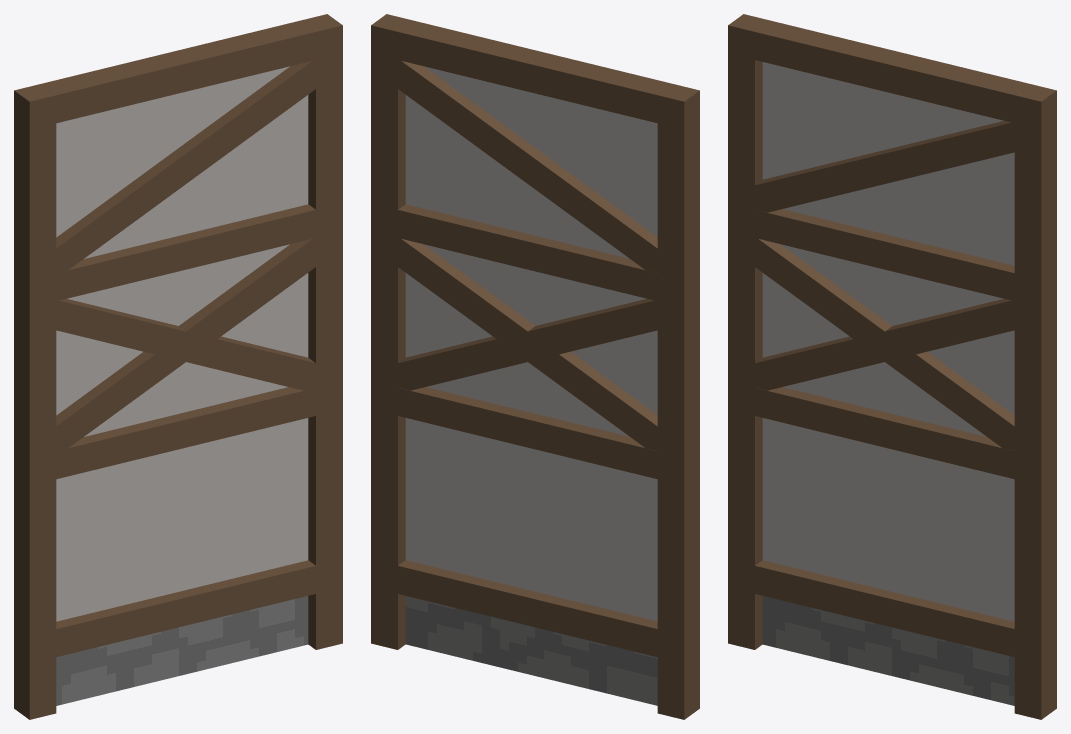
Rendered from wall_1.gltf.
The picture shows the model from 3 angles, left to right: view 1: azimuth 30°, elevation 25°; view 2: azimuth 150°, elevation 25°; view 3: azimuth 330°, elevation 25°; orthographic projection.
Visible parts, largest first — view 1: cube (×26); view 2: cube (×26); view 3: cube (×26).
Part boxes in pixels (x1=…): cube (×26): x1=14, y1=14, x2=342, y2=719; cube (×26): x1=371, y1=14, x2=699, y2=719; cube (×26): x1=728, y1=14, x2=1056, y2=719.
Bounding box in the file's own units: 2.19 × 4.12 × 0.1875.
1 material, 1 textured.
